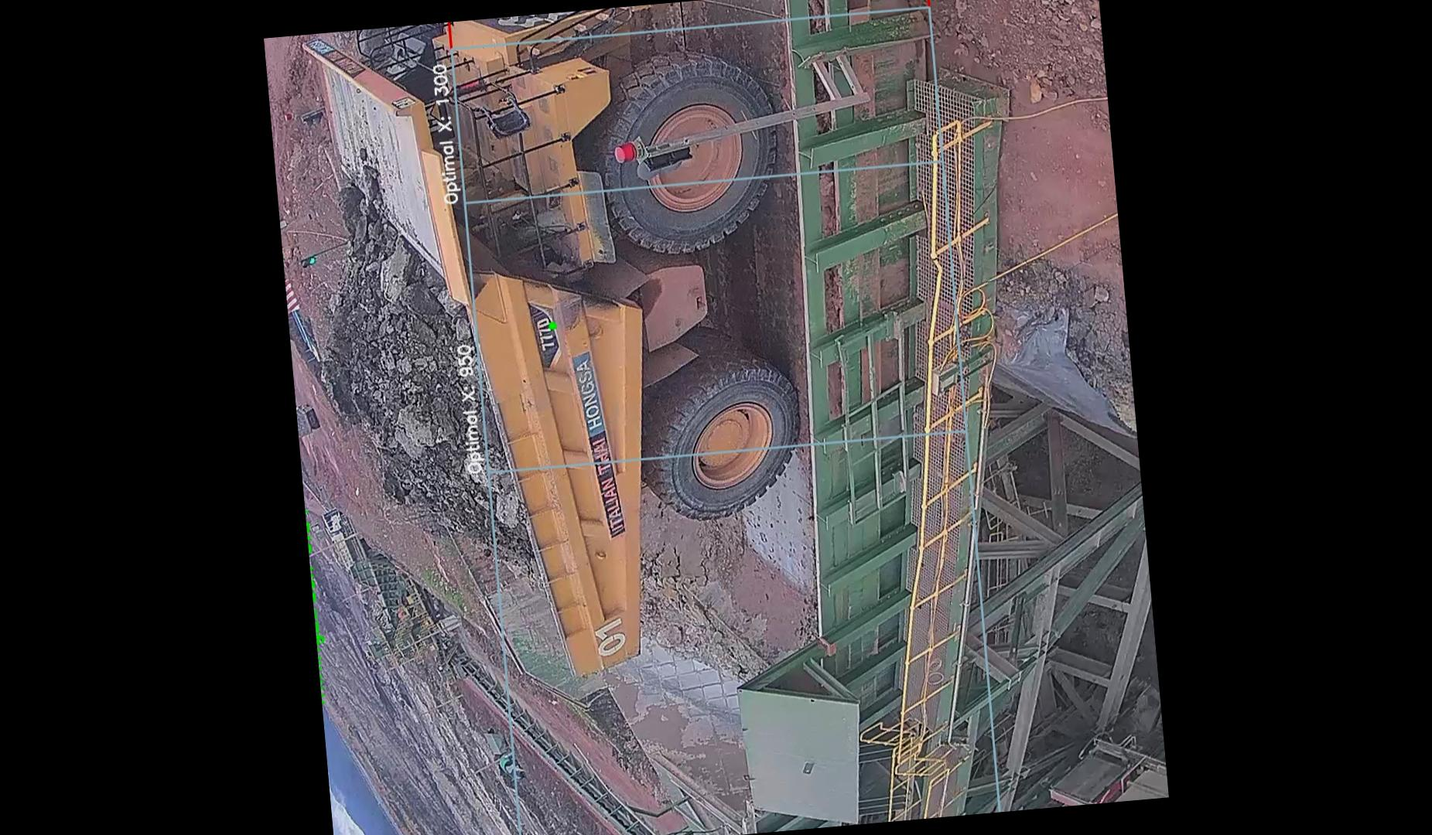company: (569, 329, 630, 542)
full_load: (313, 252, 506, 536)
mining_truck: (279, 0, 822, 701)
tail_number: (583, 607, 635, 665)
truck_size: (528, 296, 563, 370)
